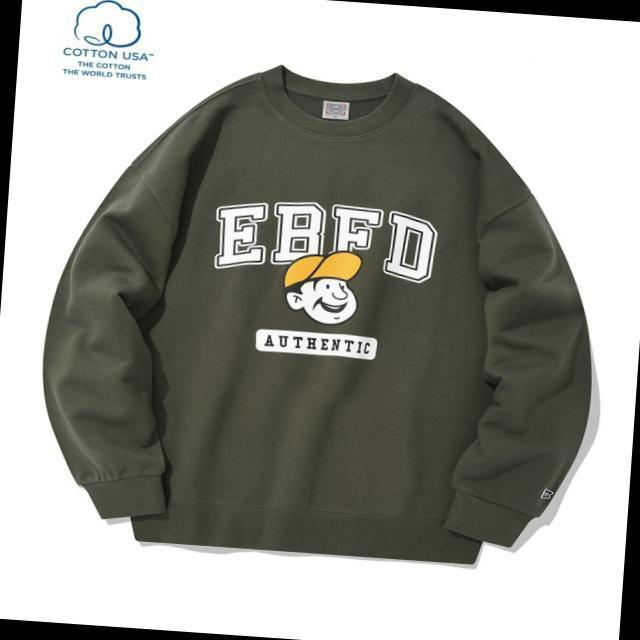sweater: (38, 63, 595, 570)
